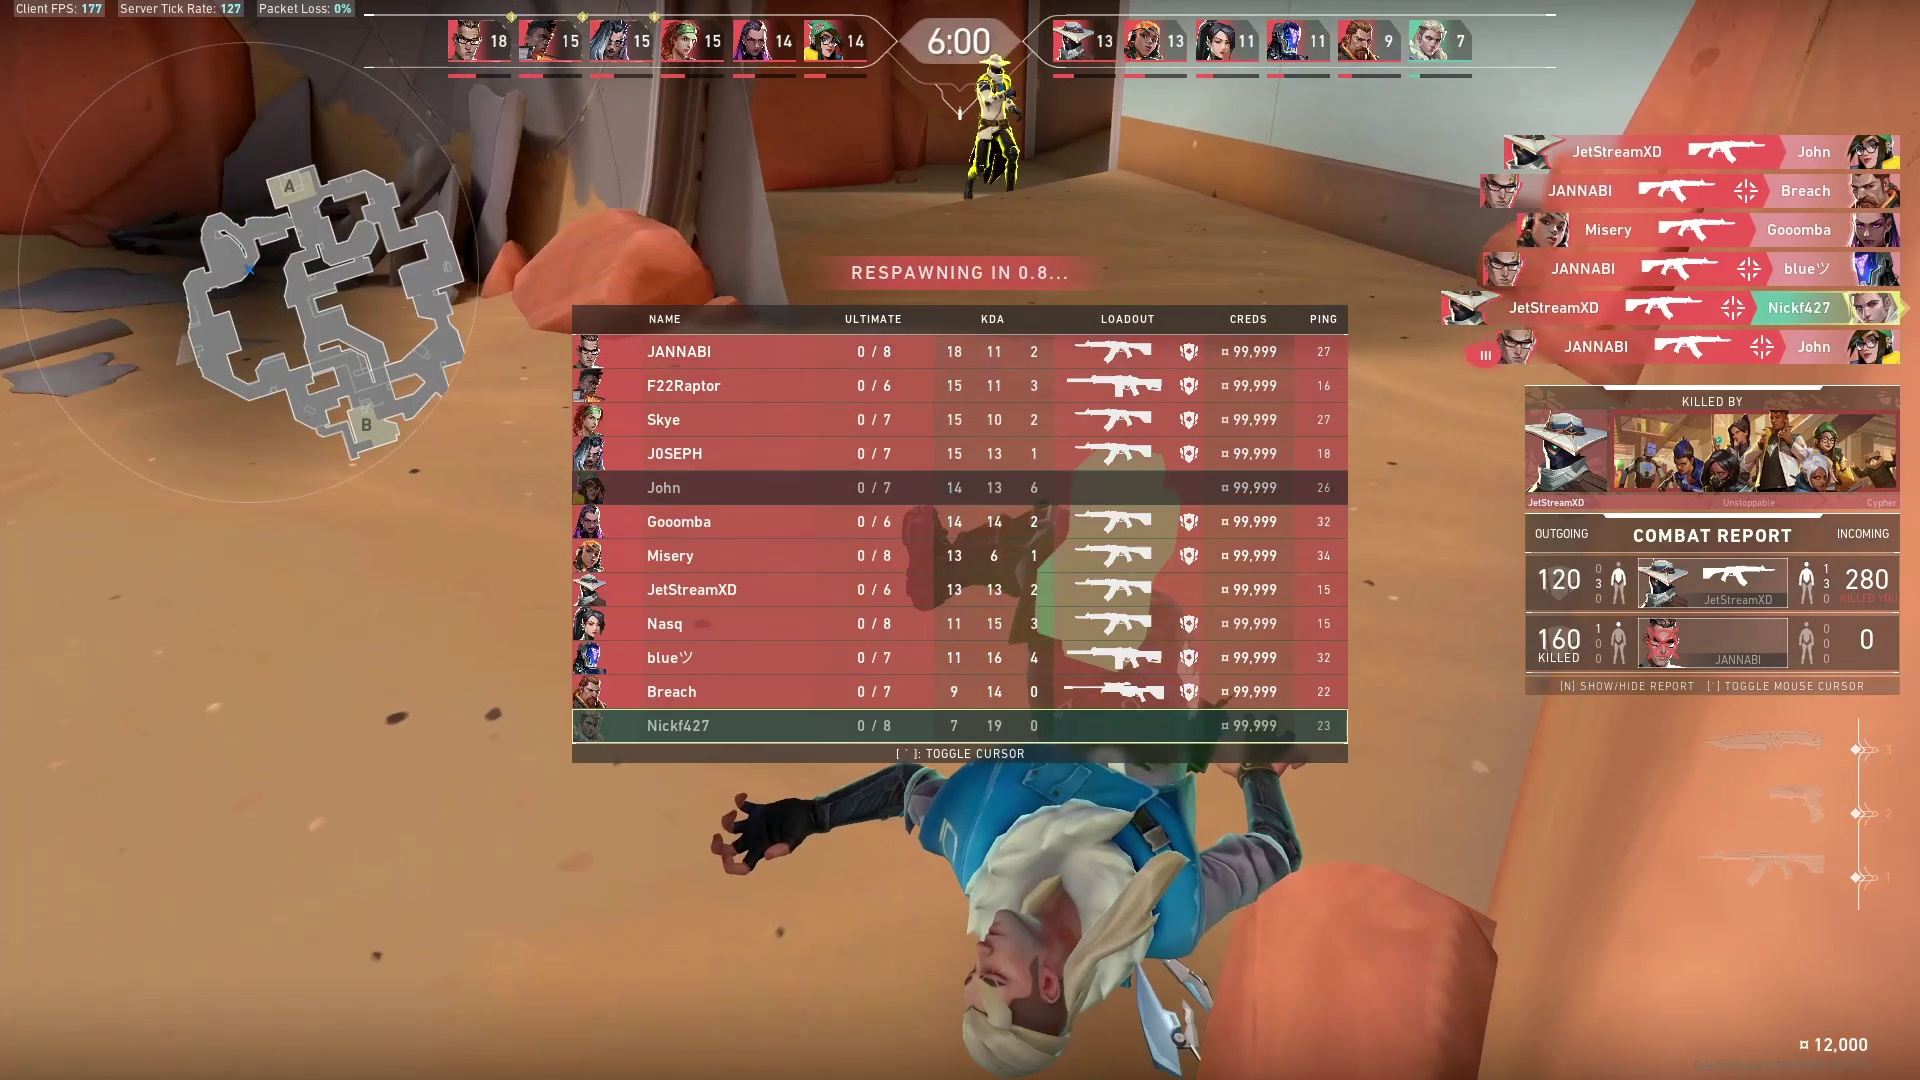enemy_body: (968, 74, 1025, 199)
enemy_head: (980, 51, 1013, 75)
